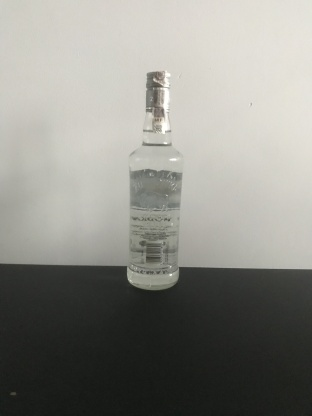nakretka: (144, 69, 172, 113)
